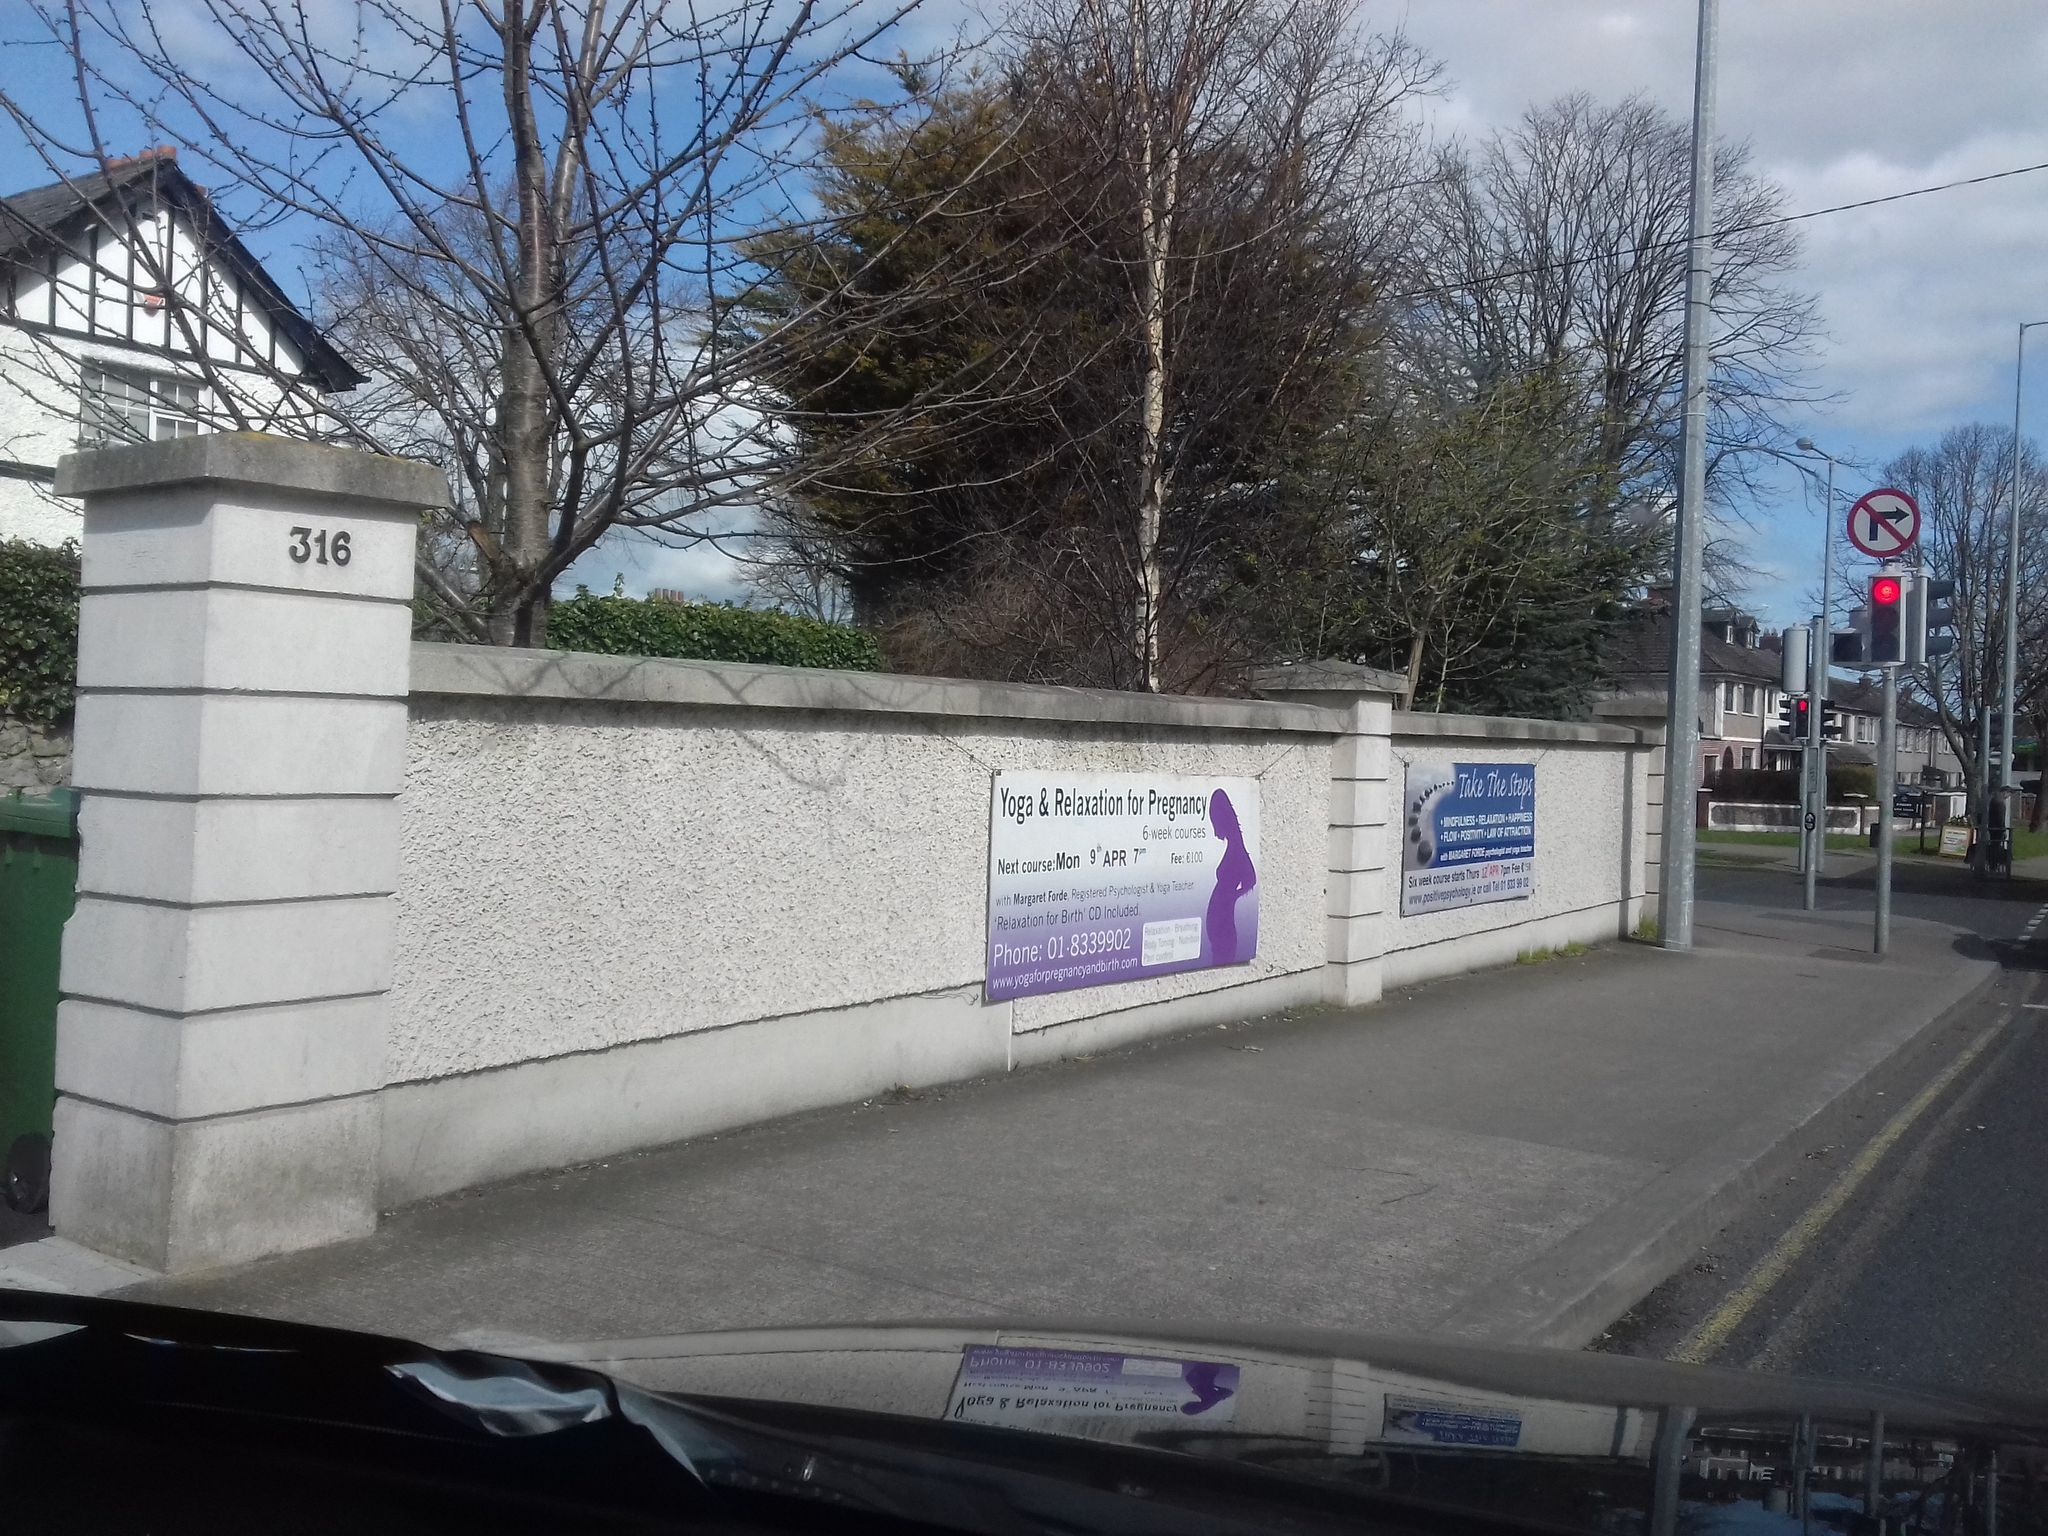vinyl banner: (976, 750, 1284, 1025), (1393, 749, 1561, 942)
